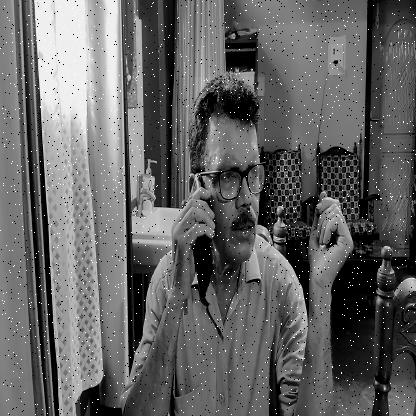Distracted: (192, 77, 264, 273)
